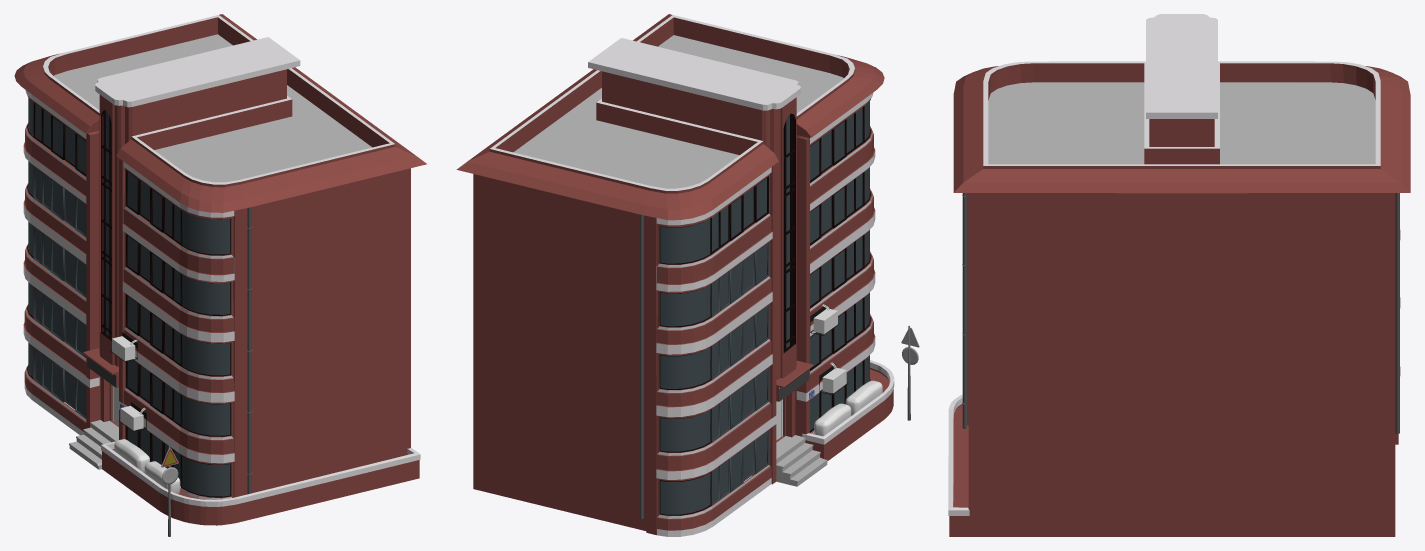
Rendered from stage2_building1(no met).fbx.
3 views of the same model, side by side, from view 1: azimuth 30°, elevation 25°; view 2: azimuth 150°, elevation 25°; view 3: azimuth 270°, elevation 25° (orthographic). The views are drawn at different scales.
Parts seen in each view (by area): view 1: Cube.003, Cube.188, Cube.038, Cube.011, Cube.013, Cube.063, Cube.057, Cube.051, Cube.046, Cube.069, Cube.109, Cube.097 (+11 smaller); view 2: Cube.003, Cube.188, Cube.011, Cube.013, Cube.097, Cube.093, Cube.087, Cube.081, Cube.075, Cube.038, Cube.109, Cube.247 (+11 smaller); view 3: Cube.003, Cube.188, Cube.013, Cube.038, Cube.011, NurbsPath.033, NurbsPath.
Part boxes in pixels (x1,y1,x2,y2): Cube.003: [23, 90, 410, 499]; Cube.188: [14, 14, 426, 212]; Cube.038: [101, 441, 420, 525]; Cube.011: [99, 69, 286, 366]; Cube.013: [95, 37, 300, 107]; Cube.063: [127, 172, 231, 254]; Cube.057: [127, 236, 231, 314]; Cube.051: [127, 296, 230, 375]; Cube.046: [127, 359, 230, 435]; Cube.069: [127, 427, 230, 496]; Cube.109: [100, 110, 111, 340]; Cube.097: [28, 97, 86, 174]; Cube.003: [473, 92, 875, 536]; Cube.188: [456, 14, 884, 220]; Cube.011: [602, 71, 796, 379]; Cube.013: [588, 38, 800, 110]; Cube.097: [660, 178, 766, 263]; Cube.093: [660, 244, 766, 326]; Cube.087: [660, 307, 766, 388]; Cube.081: [660, 369, 766, 451]; Cube.075: [660, 432, 766, 514]; Cube.038: [802, 360, 894, 460]; Cube.109: [783, 113, 795, 352]; Cube.247: [776, 435, 827, 486]; Cube.003: [967, 193, 1400, 536]; Cube.188: [953, 61, 1410, 193]; Cube.013: [1146, 14, 1217, 118]; Cube.038: [948, 394, 969, 536]; Cube.011: [1149, 119, 1214, 146]; NurbsPath.033: [1395, 193, 1399, 433]; NurbsPath: [962, 193, 966, 428].
Bounding box in the file's own units: 3573 × 4991 × 4989.
